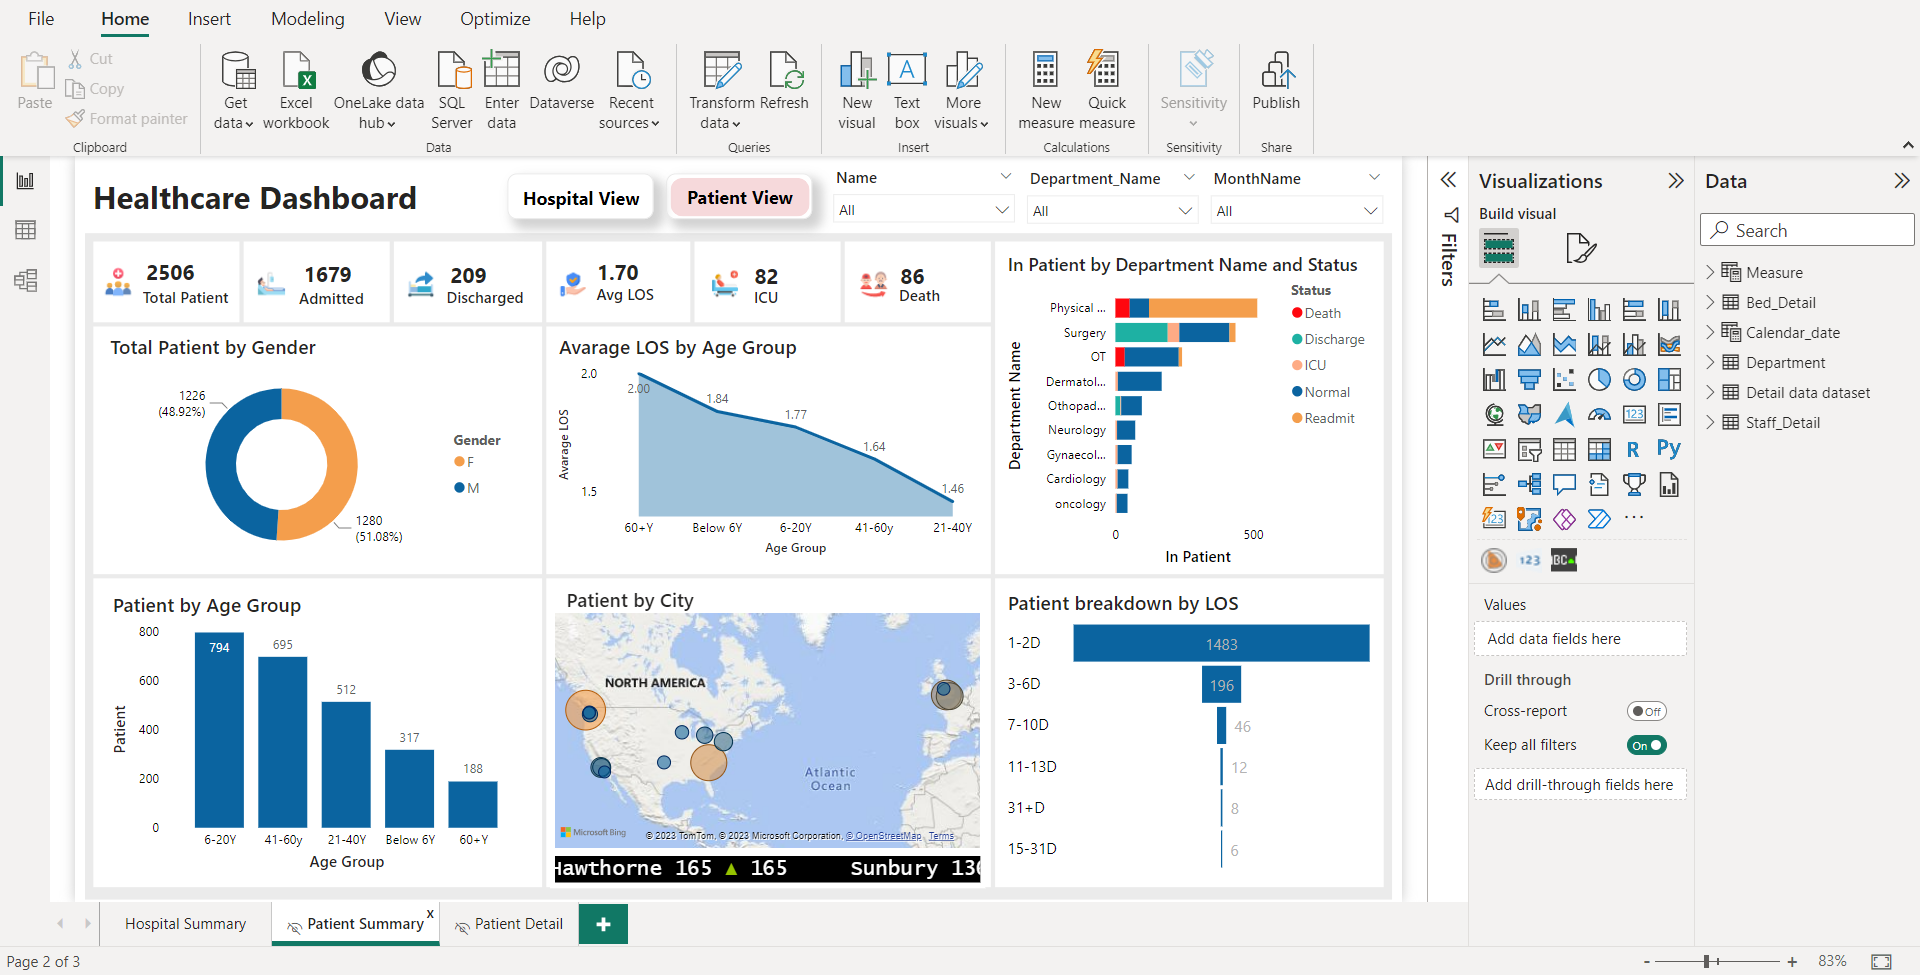

Layout of this report page (visuals, bound fields, positions):
{"tool":"powerbi","page":{"name":"Patient Summary","canvas":[1280,720],"ordinal":1},"visuals":[{"type":"card","fields":{"Values":["Measure.Total Patient"]},"box":[55.7,92.9,72.9,42.9],"z":0},{"type":"card","title":"Admission","fields":{"Values":["Measure.In Patient"]},"box":[195.7,95.7,97.1,40],"z":1000},{"type":"card","fields":{"Values":["Bed_Detail.Discharge"]},"box":[342.9,98.6,74.3,34.3],"z":2000},{"type":"donutChart","fields":{"Category":["Detail data dataset.Gender"],"Y":["Measure.Total Patient"]},"box":[28.6,171.4,407.1,228.6],"z":3000},{"type":"columnChart","fields":{"Y":["Measure.Total Patient"],"Category":["Detail data dataset.Age Bucket"]},"box":[31.4,420,407.1,275.7],"z":4000},{"type":"funnel","title":"Patient breakdown by LOS","fields":{"Y":["Measure.Total Patient"],"Category":["Detail data dataset.Custom"]},"box":[894.3,418.6,364.3,277.1],"z":5000},{"type":"areaChart","fields":{"Y":["Measure.Avarage LOS"],"Category":["Detail data dataset.Age Bucket"]},"box":[461.4,171.4,420,218.6],"z":6000},{"type":"barChart","fields":{"Category":["Department.Department_Name"],"Y":["Measure.In Patient"],"Series":["Detail data dataset.Status"]},"box":[894.3,92.9,364.3,307.1],"z":7000},{"type":"map","fields":{"Size":["Measure.Total Patient"],"Category":["Detail data dataset.City"]},"box":[458.6,437.1,420,235.7],"z":8000},{"type":"ScrollingTextVisual1448795304508","fields":{"Measure Absolute":["Measure.Total Patient"],"Measure Deviation":["Measure.Scrollar"],"Category":["Detail data dataset.City"]},"box":[458.6,670,420,35.7],"z":9000},{"type":"card","fields":{"Values":["Measure.Avarage LOS"]},"box":[490,95.7,68.6,37.1],"z":10000},{"type":"slicer","fields":{"Values":["Calendar_date.MonthName"]},"box":[1085.7,5.7,187.1,70],"z":11000},{"type":"slicer","fields":{"Values":["Department.Department_Name"]},"box":[908.6,5.7,185.7,64.3],"z":12000},{"type":"slicer","fields":{"Values":["Detail data dataset.Name"]},"box":[721.4,4.3,195.7,62.9],"z":13000},{"type":"textbox","title":"Total Patient","box":[60,125.7,97.1,21.4],"z":14000},{"type":"textbox","title":"Admitted","box":[211.4,127.1,97.1,21.4],"z":15000},{"type":"textbox","title":"Discharged","box":[352.9,125.7,97.1,21.4],"z":16000},{"type":"card","fields":{"Values":["Measure.ICU"]},"box":[625.7,98.6,82.9,37.1],"z":17000},{"type":"textbox","title":"Avg LOS","box":[498.6,122.9,105.7,24.3],"z":18000},{"type":"textbox","title":"ICU","box":[650,125.7,61.4,22.9],"z":19000},{"type":"card","fields":{"Values":["Measure.Death"]},"box":[774.3,102.9,67.1,30],"z":20000},{"type":"textbox","title":"Death","box":[790,124.3,61.4,22.9],"z":21000},{"type":"textbox","title":"Patient by City","box":[468.6,414.3,410,32.9],"z":22000},{"type":"textbox","title":"Healthcare Dashboard","box":[12.5,18.7,388.9,48.4],"z":23000},{"type":"actionButton","box":[417,16.3,140.6,43.7],"z":24000},{"type":"actionButton","box":[570.1,16.3,140.6,43.7],"z":25000}]}

Visuals, with their boxes on the page's 1280x720 design canvas (x1, y1, x2, y2). These are canvas units, not pixel positions in the 1920x975 screenshot, which may show the page scaled, cropped or inside an application window:
card - Measure.Total Patient: detection(56, 93, 129, 136)
"Admission" card: detection(196, 96, 293, 136)
card - Bed_Detail.Discharge: detection(343, 99, 417, 133)
donutChart - Detail data dataset.Gender x Measure.Total Patient: detection(29, 171, 436, 400)
columnChart - Measure.Total Patient x Detail data dataset.Age Bucket: detection(31, 420, 438, 696)
"Patient breakdown by LOS" funnel: detection(894, 419, 1259, 696)
areaChart - Measure.Avarage LOS x Detail data dataset.Age Bucket: detection(461, 171, 881, 390)
barChart - Department.Department_Name x Measure.In Patient: detection(894, 93, 1259, 400)
map - Measure.Total Patient x Detail data dataset.City: detection(459, 437, 879, 673)
ScrollingTextVisual1448795304508 - Measure.Total Patient x Measure.Scrollar: detection(459, 670, 879, 706)
card - Measure.Avarage LOS: detection(490, 96, 559, 133)
slicer - Calendar_date.MonthName: detection(1086, 6, 1273, 76)
slicer - Department.Department_Name: detection(909, 6, 1094, 70)
slicer - Detail data dataset.Name: detection(721, 4, 917, 67)
"Total Patient" textbox: detection(60, 126, 157, 147)
"Admitted" textbox: detection(211, 127, 308, 148)
"Discharged" textbox: detection(353, 126, 450, 147)
card - Measure.ICU: detection(626, 99, 709, 136)
"Avg LOS" textbox: detection(499, 123, 604, 147)
"ICU" textbox: detection(650, 126, 711, 149)
card - Measure.Death: detection(774, 103, 841, 133)
"Death" textbox: detection(790, 124, 851, 147)
"Patient by City" textbox: detection(469, 414, 879, 447)
"Healthcare Dashboard" textbox: detection(12, 19, 401, 67)
actionButton: detection(417, 16, 558, 60)
actionButton: detection(570, 16, 711, 60)
